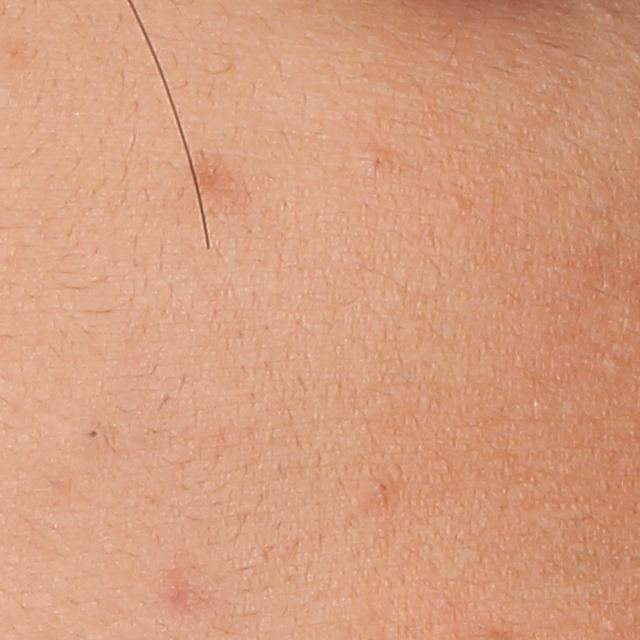comedo: (359, 143, 393, 175), (444, 188, 466, 210), (86, 421, 104, 444)
